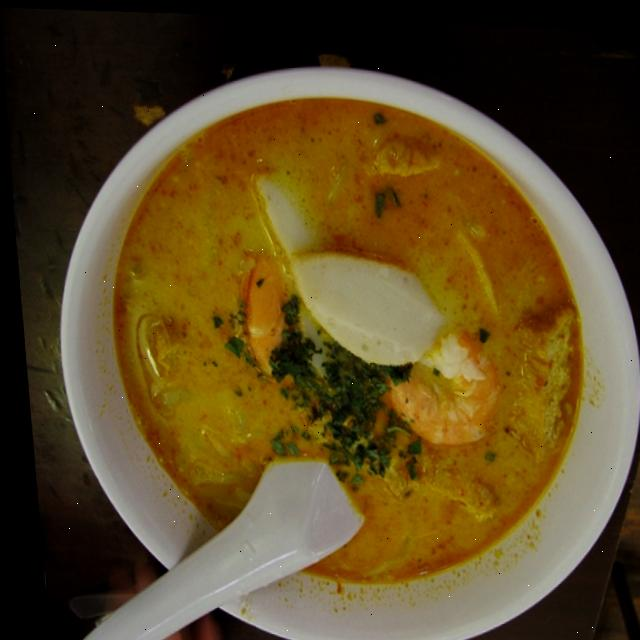面条主食: (21, 29, 640, 640)
